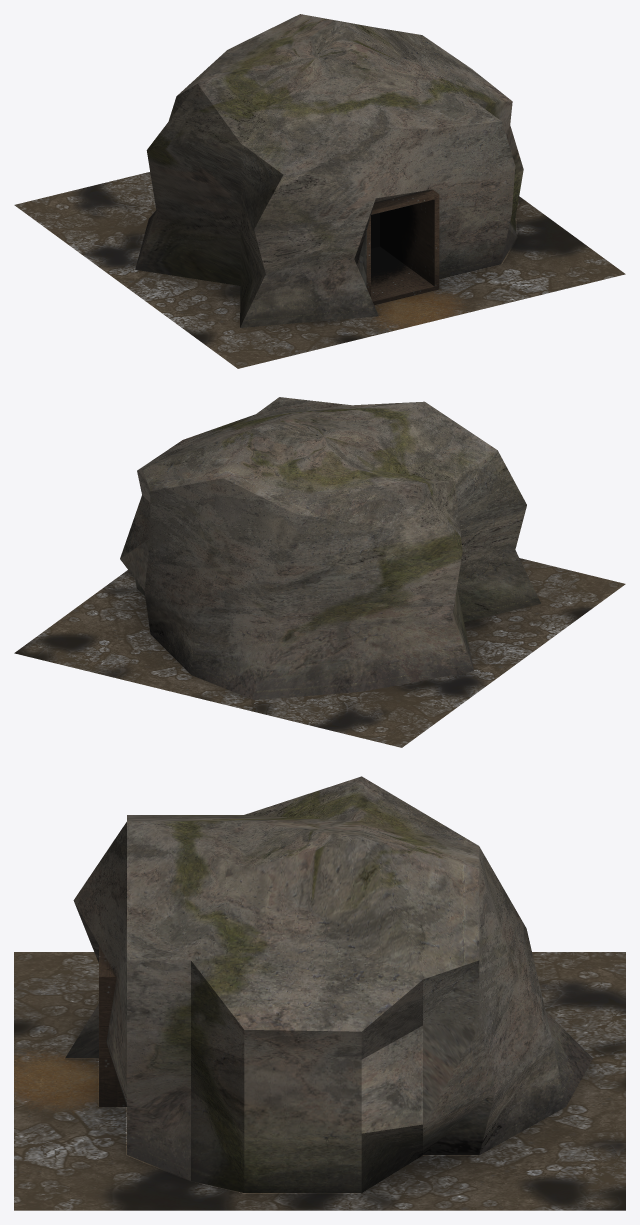
Rendered from Mine.FBX.
3 views of the same model, one above another, from view 1: azimuth 30°, elevation 25°; view 2: azimuth 150°, elevation 25°; view 3: azimuth 270°, elevation 25° (orthographic). The views are drawn at different scales.
Visible parts, largest first — view 1: Mine; view 2: Mine; view 3: Mine.
Boxes of the visible parts, box(x1,y1,x2,y2) form: Mine: box(14, 14, 625, 368); Mine: box(14, 397, 625, 747); Mine: box(14, 776, 625, 1210).
Size of the model in its own units: 5.91 by 2.86 by 5.91.
